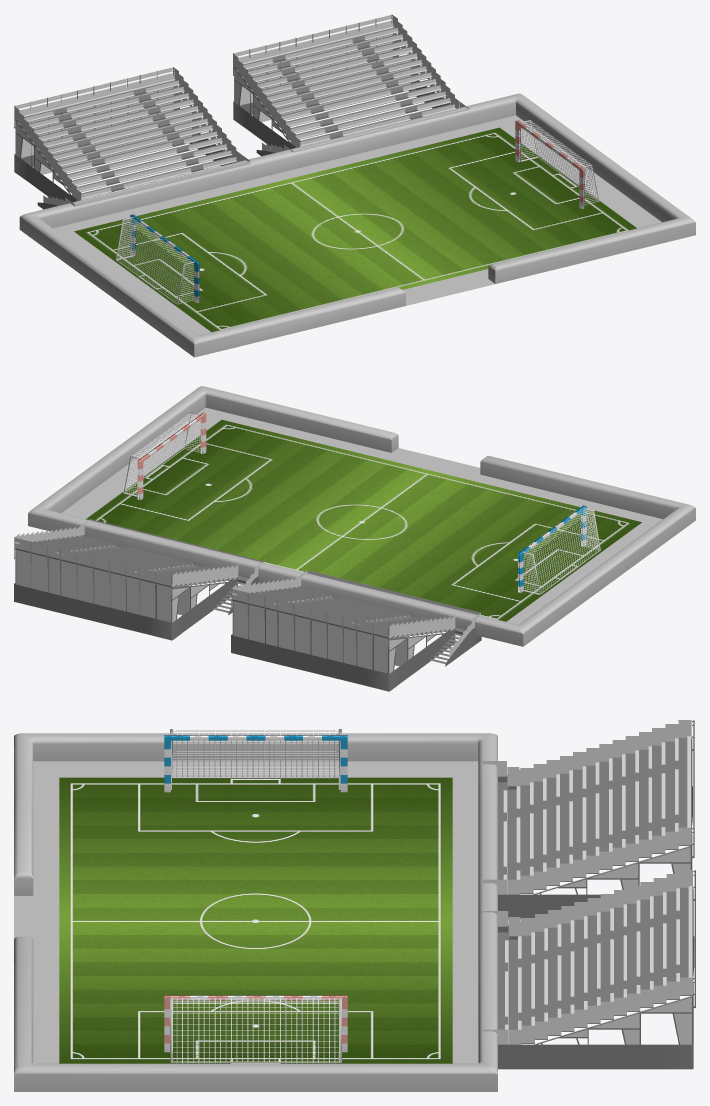
File: pitch.gltf
The picture shows the model from 3 angles, top to bottom: view 1: azimuth 30°, elevation 25°; view 2: azimuth 150°, elevation 25°; view 3: azimuth 270°, elevation 25°; orthographic projection. The views are drawn at different scales.
Parts seen in each view (by area): view 1: Plane, Plane.001, Node_013_mel_grandstand_genericmedium_a_physics_!bk, Node_013_mel_grandstand_genericmedium_a_physics_!bk.001, Cube.004, Cube.002, Cube.027, Cube.003; view 2: Plane, Plane.001, Node_013_mel_grandstand_genericmedium_a_physics_!bk, Node_013_mel_grandstand_genericmedium_a_physics_!bk.001, Cube.004, Cube.002, Cube.027, Cube.003; view 3: Plane, Plane.001, Node_013_mel_grandstand_genericmedium_a_physics_!bk.001, Node_013_mel_grandstand_genericmedium_a_physics_!bk, Cube.002, Cube.004, Cube.003, Cube.027, Cube.001.
Part boxes in pixels (x1,y1,x2,y2): Plane: [74, 127, 636, 332]; Plane.001: [19, 93, 695, 357]; Node_013_mel_grandstand_genericmedium_a_physics_!bk: [14, 67, 250, 209]; Node_013_mel_grandstand_genericmedium_a_physics_!bk.001: [233, 14, 469, 156]; Cube.004: [117, 218, 193, 304]; Cube.002: [521, 121, 598, 205]; Cube.027: [515, 120, 584, 208]; Cube.003: [130, 214, 199, 302]; Plane: [86, 419, 641, 621]; Plane.001: [28, 386, 695, 646]; Node_013_mel_grandstand_genericmedium_a_physics_!bk: [231, 570, 481, 691]; Node_013_mel_grandstand_genericmedium_a_physics_!bk.001: [14, 519, 263, 640]; Cube.004: [524, 509, 599, 593]; Cube.002: [124, 413, 200, 495]; Cube.027: [137, 412, 206, 500]; Cube.003: [518, 505, 586, 592]; Plane: [59, 777, 452, 1063]; Plane.001: [14, 733, 497, 1091]; Node_013_mel_grandstand_genericmedium_a_physics_!bk.001: [482, 870, 695, 1069]; Node_013_mel_grandstand_genericmedium_a_physics_!bk: [480, 720, 694, 919]; Cube.002: [171, 998, 340, 1063]; Cube.004: [171, 729, 340, 789]; Cube.003: [164, 735, 347, 792]; Cube.027: [164, 995, 347, 1052]; Cube.001: [170, 997, 341, 1062].
Bounding box in the file's own units: 26.5 × 3.39 × 22.55.
13 materials, 1 textured.
